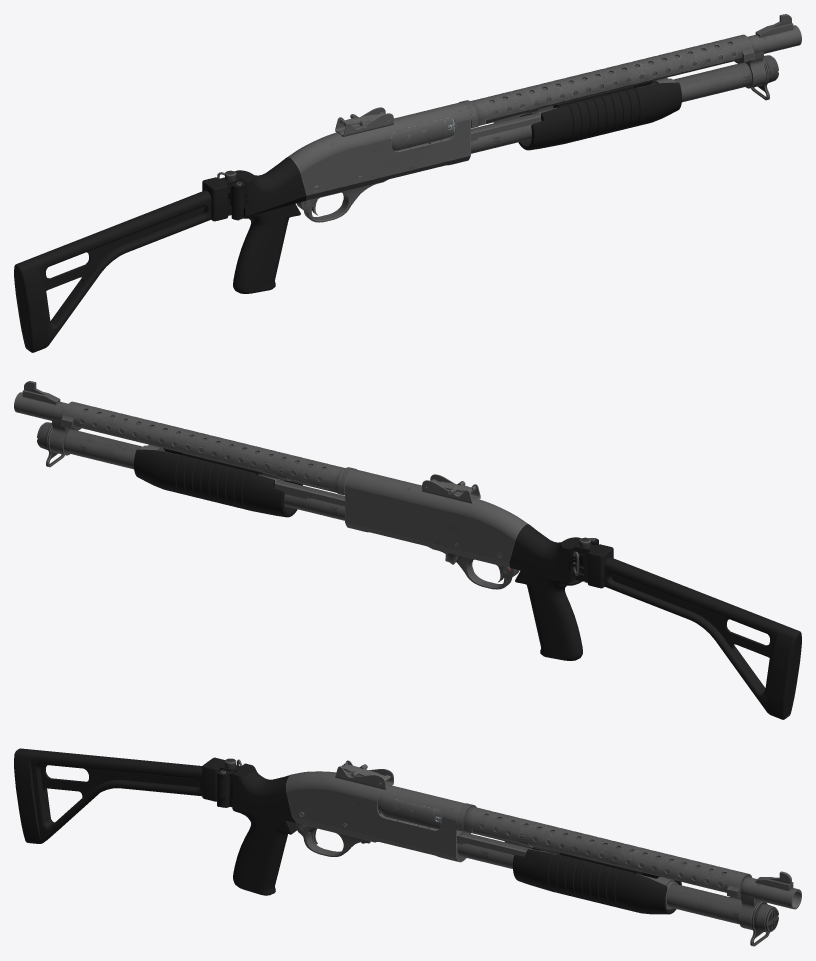
The model's file is combat_shotgun.glb.
3 renders of one model, top to bottom at view 1: azimuth 30°, elevation 25°; view 2: azimuth 150°, elevation 25°; view 3: azimuth 330°, elevation 25°, orthographic.
Parts seen in each view (by area): view 1: Object_2, Object_9, Object_8, Object_6, Object_3, Object_13, Object_5, Object_11, Object_10, Object_14; view 2: Object_2, Object_8, Object_9, Object_3, Object_6, Object_13, Object_11, Object_14, Object_10; view 3: Object_2, Object_8, Object_9, Object_6, Object_3, Object_13, Object_5, Object_10, Object_11, Object_14, Object_4.
Part boxes in pixels (box(x1,y1,x2,y2)): Object_2: box(454, 14, 801, 153); Object_9: box(14, 190, 211, 352); Object_8: box(288, 102, 470, 200); Object_6: box(518, 77, 681, 150); Object_3: box(233, 157, 306, 293); Object_13: box(202, 170, 247, 221); Object_5: box(391, 118, 455, 150); Object_11: box(335, 107, 393, 136); Object_10: box(394, 78, 675, 151); Object_14: box(296, 181, 383, 222); Object_2: box(14, 381, 356, 520); Object_8: box(345, 469, 527, 567); Object_9: box(604, 557, 801, 719); Object_3: box(509, 524, 582, 660); Object_6: box(134, 444, 302, 517); Object_13: box(568, 537, 613, 588); Object_11: box(422, 474, 480, 503); Object_14: box(432, 548, 519, 589); Object_10: box(140, 445, 344, 506); Object_2: box(456, 803, 801, 929); Object_8: box(286, 771, 470, 862); Object_9: box(14, 748, 202, 843); Object_6: box(513, 848, 681, 914); Object_3: box(232, 764, 296, 895); Object_13: box(202, 757, 246, 807); Object_5: box(378, 797, 441, 829); Object_10: box(380, 813, 678, 909); Object_11: box(335, 760, 393, 789); Object_14: box(296, 823, 375, 856); Object_4: box(750, 901, 778, 946).
Size of the model in its own units: 26.76 by 5.06 by 1.44.
12 materials, 12 textured.
